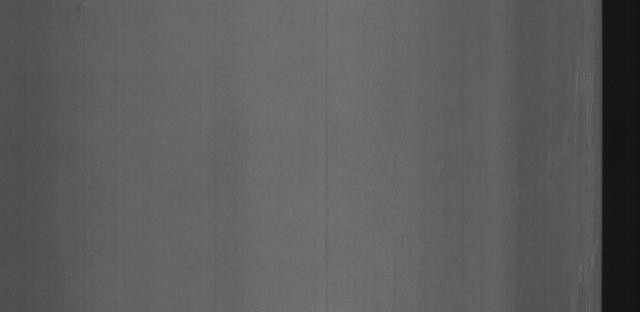silk_spot: (557, 34, 599, 149), (570, 242, 598, 308)
